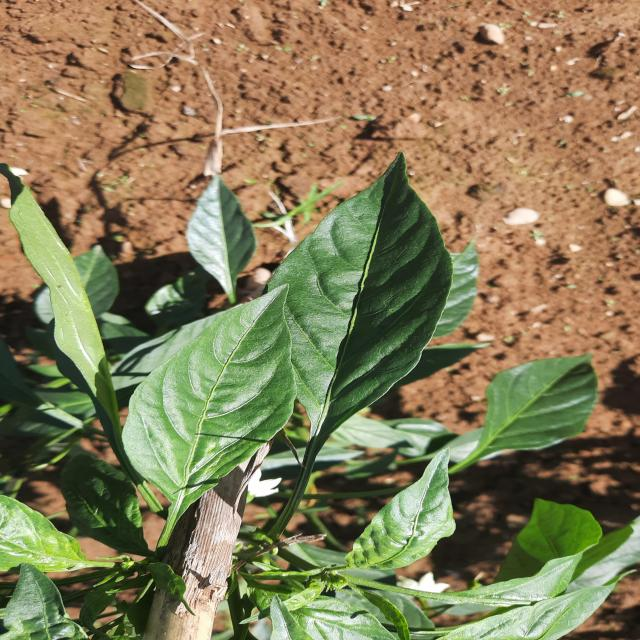sehat: (88, 294, 322, 488), (481, 342, 628, 462)
